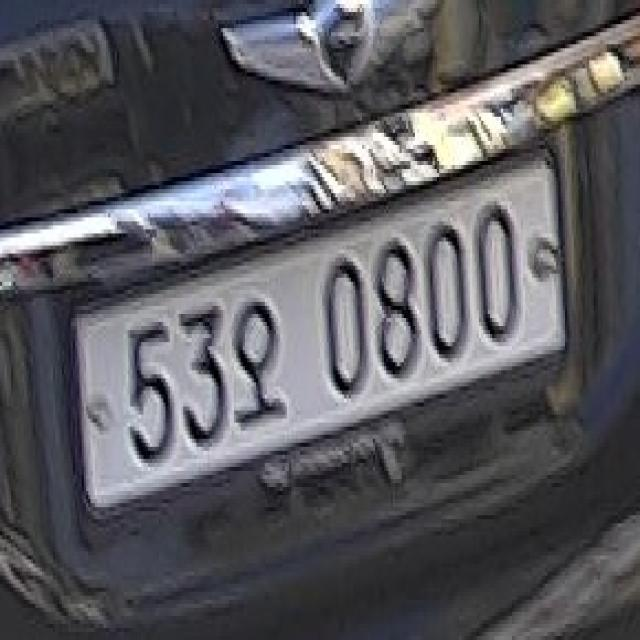0: (470, 169, 534, 378), (318, 237, 371, 418), (428, 202, 468, 378)
3: (177, 286, 236, 459)
5: (117, 314, 181, 471)
8: (373, 218, 419, 410)
license_plate: (77, 125, 572, 543)
o: (230, 286, 294, 430)
